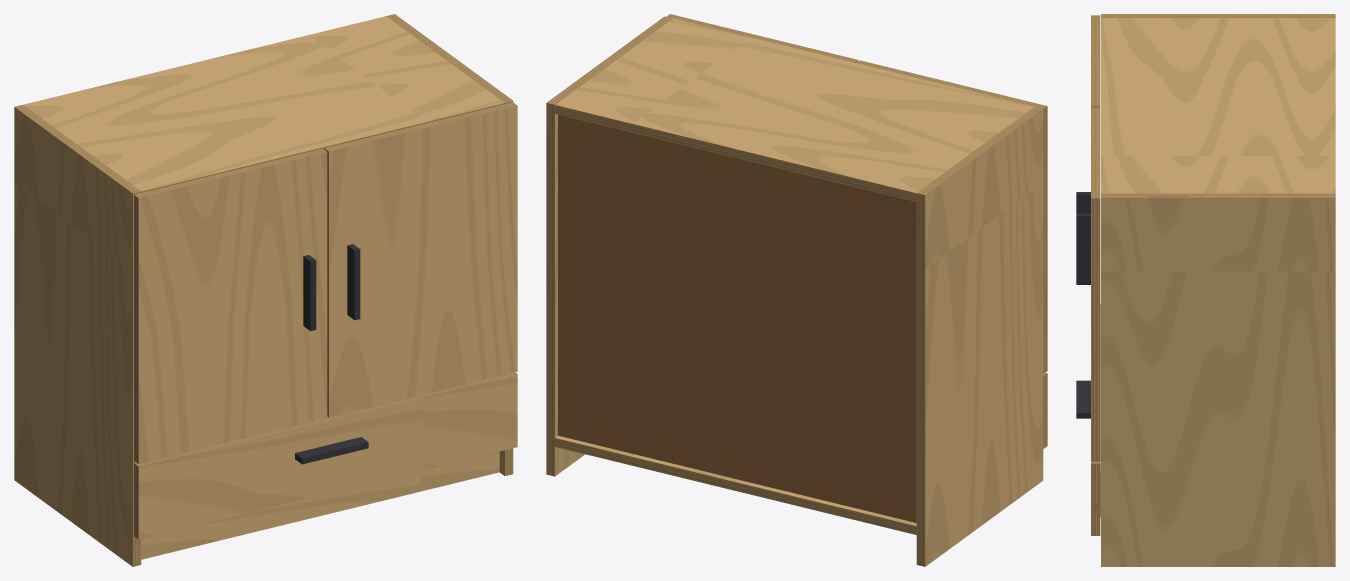
Rendered from HIN-CAB-std.glb.
3 views of the same model, side by side, from view 1: azimuth 30°, elevation 25°; view 2: azimuth 150°, elevation 25°; view 3: azimuth 270°, elevation 25° (orthographic).
Parts seen in each view (by area): view 1: door-l:sheet:eyJtIjoicGx5Iiwic2lkZSI6ImZhY2UiLCJzZWVkIjoyLCJ, door-r:sheet:eyJtIjoicGx5Iiwic2lkZSI6ImZhY2UiLCJzZWVkIjoxLCJ, side-l:sheet:eyJtIjoicGx5Iiwic2lkZSI6ImZhY2UiLCJzZWVkIjoxLCJ, top:sheet:eyJtIjoicGx5Iiwic2lkZSI6ImZhY2UiLCJzZWVkIjo2LCJ2ZW, d1-front:sheet:eyJtIjoicGx5Iiwic2lkZSI6ImZhY2UiLCJzZWVkIjo2L, plinth:sheet:eyJtIjoicGx5Iiwic2lkZSI6ImZhY2UiLCJzZWVkIjozLCJ, pull, door-l:sheet:eyJtIjoicGx5Iiwic2lkZSI6ImVkZ2UtbG9uZyIsInNlZWQ, d1-front:sheet:eyJtIjoicGx5Iiwic2lkZSI6ImVkZ2UtbG9uZyIsInNlZ, side-l:sheet:eyJtIjoicGx5Iiwic2lkZSI6ImVkZ2UtZW5kIiwic2VlZCI, side-r:sheet:eyJtIjoicGx5Iiwic2lkZSI6ImVkZ2UtZW5kIiwic2VlZCI, door-l:sheet:eyJtIjoicGx5Iiwic2lkZSI6ImVkZ2UtZW5kIiwic2VlZCI (+2 smaller); view 2: back:sheet:eyJtIjoibWRmIiwic2lkZSI6ImZhY2UiLCJzZWVkIjoyLCJ0a, side-l:sheet:eyJtIjoicGx5Iiwic2lkZSI6ImZhY2UiLCJzZWVkIjoxLCJ, top:sheet:eyJtIjoicGx5Iiwic2lkZSI6ImZhY2UiLCJzZWVkIjo2LCJ2ZW, side-l:sheet:eyJtIjoicGx5Iiwic2lkZSI6ImVkZ2UtbG9uZyIsInNlZWQ, top:sheet:eyJtIjoicGx5Iiwic2lkZSI6ImVkZ2UtbG9uZyIsInNlZWQiOj, bottom:sheet:eyJtIjoicGx5Iiwic2lkZSI6ImVkZ2UtbG9uZyIsInNlZWQ, side-r:sheet:eyJtIjoicGx5Iiwic2lkZSI6ImVkZ2UtbG9uZyIsInNlZWQ, side-r:sheet:eyJtIjoicGx5Iiwic2lkZSI6ImZhY2UiLCJzZWVkIjozLCJ, bottom:sheet:eyJtIjoicGx5Iiwic2lkZSI6ImZhY2UiLCJzZWVkIjowLCJ, door-l:sheet:eyJtIjoicGx5Iiwic2lkZSI6ImVkZ2UtbG9uZyIsInNlZWQ, side-l:sheet:eyJtIjoicGx5Iiwic2lkZSI6ImVkZ2UtZW5kIiwic2VlZCI, side-r:sheet:eyJtIjoicGx5Iiwic2lkZSI6ImVkZ2UtZW5kIiwic2VlZCI (+2 smaller); view 3: side-r:sheet:eyJtIjoicGx5Iiwic2lkZSI6ImZhY2UiLCJzZWVkIjozLCJ, top:sheet:eyJtIjoicGx5Iiwic2lkZSI6ImZhY2UiLCJzZWVkIjo2LCJ2ZW, door-r:sheet:eyJtIjoicGx5Iiwic2lkZSI6ImVkZ2UtbG9uZyIsInNlZWQ, pull, side-r:sheet:eyJtIjoicGx5Iiwic2lkZSI6ImVkZ2UtZW5kIiwic2VlZCI, side-l:sheet:eyJtIjoicGx5Iiwic2lkZSI6ImVkZ2UtZW5kIiwic2VlZCI, door-l:sheet:eyJtIjoicGx5Iiwic2lkZSI6ImVkZ2UtZW5kIiwic2VlZCI, door-r:sheet:eyJtIjoicGx5Iiwic2lkZSI6ImVkZ2UtZW5kIiwic2VlZCI, d1-front:sheet:eyJtIjoicGx5Iiwic2lkZSI6ImVkZ2UtZW5kIiwic2VlZ.
Boxes of the visible parts, <box> form: door-l:sheet:eyJtIjoicGx5Iiwic2lkZSI6ImZhY2UiLCJzZWVkIjoyLCJ: <box>138,152,327,463</box>; door-r:sheet:eyJtIjoicGx5Iiwic2lkZSI6ImZhY2UiLCJzZWVkIjoxLCJ: <box>329,105,517,417</box>; side-l:sheet:eyJtIjoicGx5Iiwic2lkZSI6ImZhY2UiLCJzZWVkIjoxLCJ: <box>14,107,132,566</box>; top:sheet:eyJtIjoicGx5Iiwic2lkZSI6ImZhY2UiLCJzZWVkIjo2LCJ2ZW: <box>23,16,504,191</box>; d1-front:sheet:eyJtIjoicGx5Iiwic2lkZSI6ImZhY2UiLCJzZWVkIjo2L: <box>138,374,517,539</box>; plinth:sheet:eyJtIjoicGx5Iiwic2lkZSI6ImZhY2UiLCJzZWVkIjozLCJ: <box>141,451,499,559</box>; pull: <box>295,244,368,464</box>; door-l:sheet:eyJtIjoicGx5Iiwic2lkZSI6ImVkZ2UtbG9uZyIsInNlZWQ: <box>134,195,138,463</box>; d1-front:sheet:eyJtIjoicGx5Iiwic2lkZSI6ImVkZ2UtbG9uZyIsInNlZ: <box>134,372,517,466</box>; side-l:sheet:eyJtIjoicGx5Iiwic2lkZSI6ImVkZ2UtZW5kIiwic2VlZCI: <box>14,105,140,193</box>; side-r:sheet:eyJtIjoicGx5Iiwic2lkZSI6ImVkZ2UtZW5kIiwic2VlZCI: <box>386,14,512,102</box>; door-l:sheet:eyJtIjoicGx5Iiwic2lkZSI6ImVkZ2UtZW5kIiwic2VlZCI: <box>134,148,326,197</box>; back:sheet:eyJtIjoibWRmIiwic2lkZSI6ImZhY2UiLCJzZWVkIjoyLCJ0a: <box>558,114,916,522</box>; side-l:sheet:eyJtIjoicGx5Iiwic2lkZSI6ImZhY2UiLCJzZWVkIjoxLCJ: <box>925,109,1043,566</box>; top:sheet:eyJtIjoicGx5Iiwic2lkZSI6ImZhY2UiLCJzZWVkIjo2LCJ2ZW: <box>555,18,1034,193</box>; side-l:sheet:eyJtIjoicGx5Iiwic2lkZSI6ImVkZ2UtbG9uZyIsInNlZWQ: <box>916,193,925,566</box>; top:sheet:eyJtIjoicGx5Iiwic2lkZSI6ImVkZ2UtbG9uZyIsInNlZWQiOj: <box>555,105,916,201</box>; bottom:sheet:eyJtIjoicGx5Iiwic2lkZSI6ImVkZ2UtbG9uZyIsInNlZWQ: <box>555,438,916,534</box>; side-r:sheet:eyJtIjoicGx5Iiwic2lkZSI6ImVkZ2UtbG9uZyIsInNlZWQ: <box>546,103,554,476</box>; side-r:sheet:eyJtIjoicGx5Iiwic2lkZSI6ImZhY2UiLCJzZWVkIjozLCJ: <box>555,114,584,476</box>; bottom:sheet:eyJtIjoicGx5Iiwic2lkZSI6ImZhY2UiLCJzZWVkIjowLCJ: <box>555,435,916,525</box>; door-l:sheet:eyJtIjoicGx5Iiwic2lkZSI6ImVkZ2UtbG9uZyIsInNlZWQ: <box>1043,106,1047,373</box>; side-l:sheet:eyJtIjoicGx5Iiwic2lkZSI6ImVkZ2UtZW5kIiwic2VlZCI: <box>917,107,1042,194</box>; side-r:sheet:eyJtIjoicGx5Iiwic2lkZSI6ImVkZ2UtZW5kIiwic2VlZCI: <box>547,16,672,104</box>; side-r:sheet:eyJtIjoicGx5Iiwic2lkZSI6ImZhY2UiLCJzZWVkIjozLCJ: <box>1101,197,1335,566</box>; top:sheet:eyJtIjoicGx5Iiwic2lkZSI6ImZhY2UiLCJzZWVkIjo2LCJ2ZW: <box>1101,18,1335,193</box>; door-r:sheet:eyJtIjoicGx5Iiwic2lkZSI6ImVkZ2UtbG9uZyIsInNlZWQ: <box>1091,198,1100,461</box>; pull: <box>1076,192,1090,418</box>; side-r:sheet:eyJtIjoicGx5Iiwic2lkZSI6ImVkZ2UtZW5kIiwic2VlZCI: <box>1101,193,1335,197</box>; side-l:sheet:eyJtIjoicGx5Iiwic2lkZSI6ImVkZ2UtZW5kIiwic2VlZCI: <box>1101,14,1335,17</box>; door-l:sheet:eyJtIjoicGx5Iiwic2lkZSI6ImVkZ2UtZW5kIiwic2VlZCI: <box>1091,15,1100,106</box>; door-r:sheet:eyJtIjoicGx5Iiwic2lkZSI6ImVkZ2UtZW5kIiwic2VlZCI: <box>1091,107,1100,198</box>; d1-front:sheet:eyJtIjoicGx5Iiwic2lkZSI6ImVkZ2UtZW5kIiwic2VlZ: <box>1091,463,1100,535</box>.
Size of the model in its own units: 0.8 by 0.75 by 0.4769.
55 materials, 54 textured.
